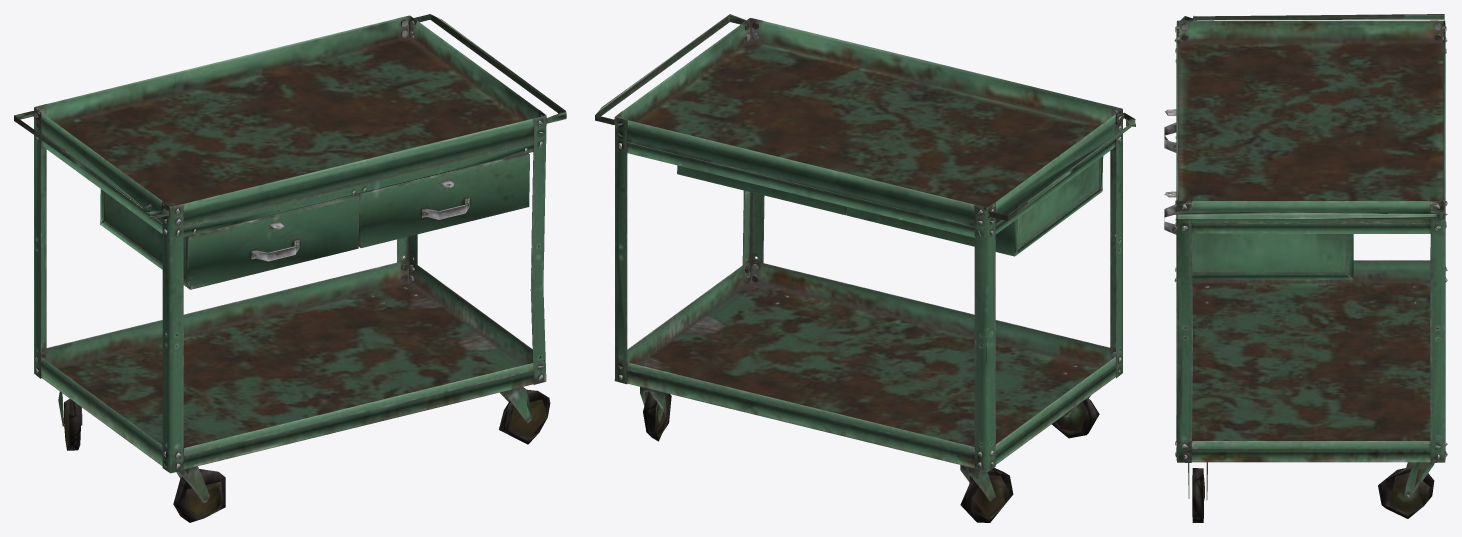
Rendered from tool_cart.glb.
The picture shows the model from 3 angles, left to right: view 1: azimuth 30°, elevation 25°; view 2: azimuth 150°, elevation 25°; view 3: azimuth 270°, elevation 25°; orthographic projection.
Visible parts, largest first — view 1: tool_cart; view 2: tool_cart; view 3: tool_cart.
Part boxes in pixels (x1=…): tool_cart: x1=14, y1=14, x2=566, y2=522; tool_cart: x1=595, y1=14, x2=1135, y2=522; tool_cart: x1=1164, y1=14, x2=1447, y2=522.
Size of the model in its own units: 1.26 by 0.9619 by 0.7521.
1 material, 1 textured.
